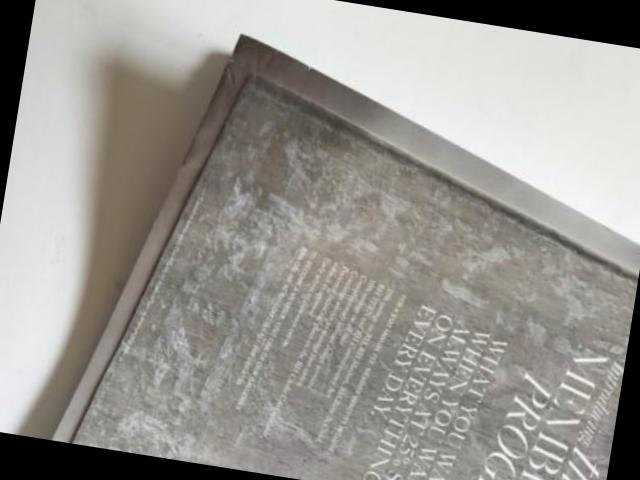cardboard paper: (53, 38, 640, 480)
